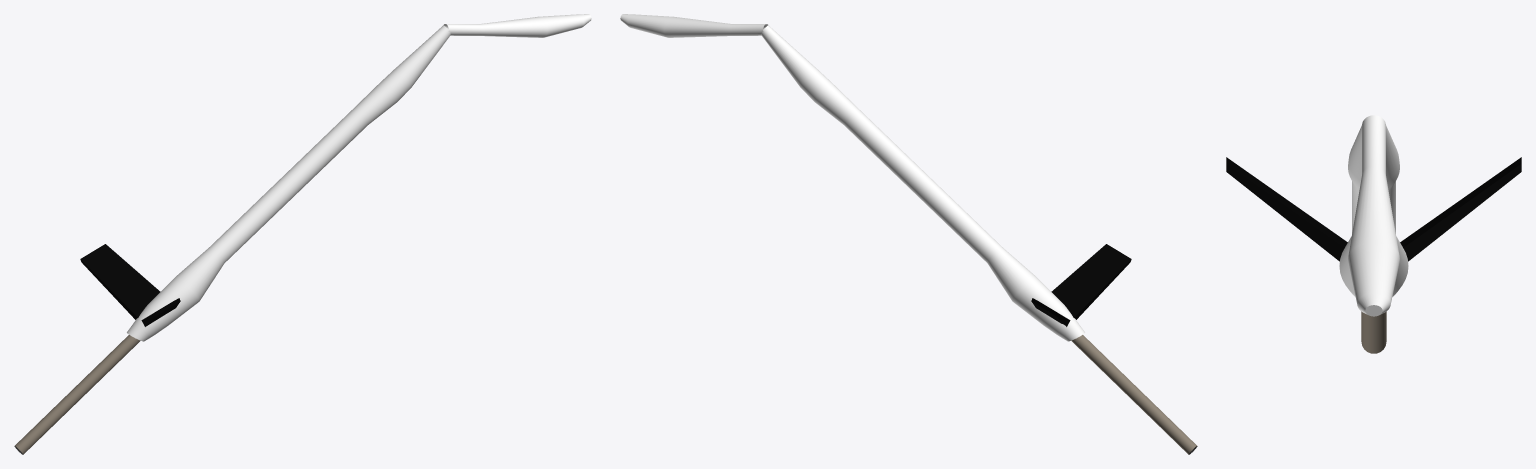
3 renders of one model, left to right at view 1: azimuth 30°, elevation 25°; view 2: azimuth 150°, elevation 25°; view 3: azimuth 270°, elevation 25°, orthographic. The views are drawn at different scales.
Parts seen in each view (by area): view 1: boom; view 2: boom; view 3: boom.
Boxes of the visible parts, x1,y1,x2,y2 form: boom: [14, 14, 591, 454]; boom: [620, 14, 1197, 454]; boom: [1226, 115, 1521, 353].
Bounding box in the file's own units: 14.44 × 7.85 × 3.22.
4 materials, 1 textured.
